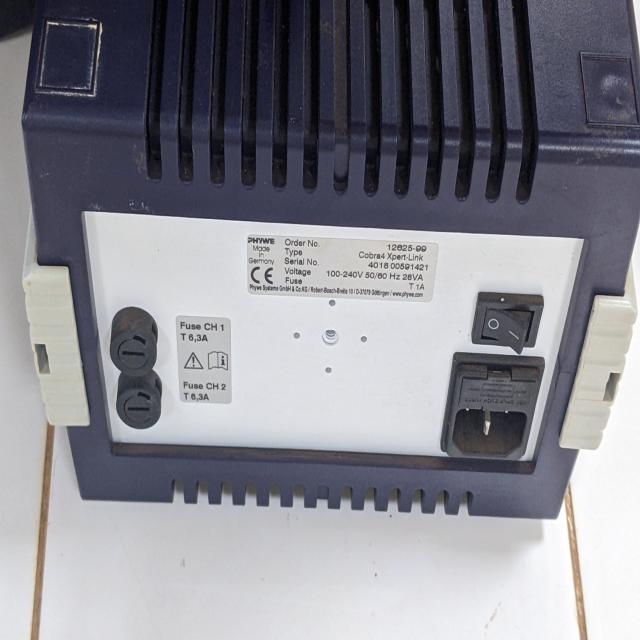Power Supply of Speed of Light Demo: (19, 15, 630, 521)
